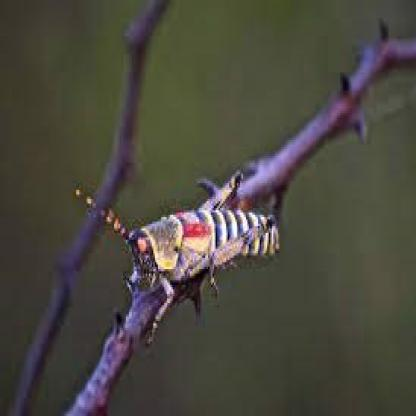grasshopper: (70, 165, 287, 324)
